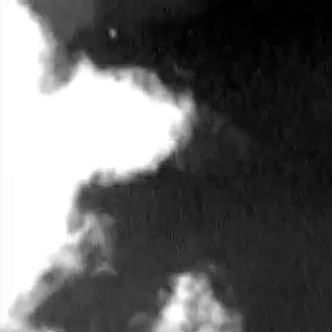Target: (110, 29, 116, 38)
